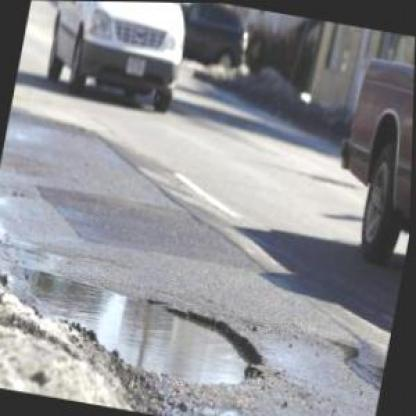pothole: (7, 262, 279, 390), (330, 336, 362, 359)
